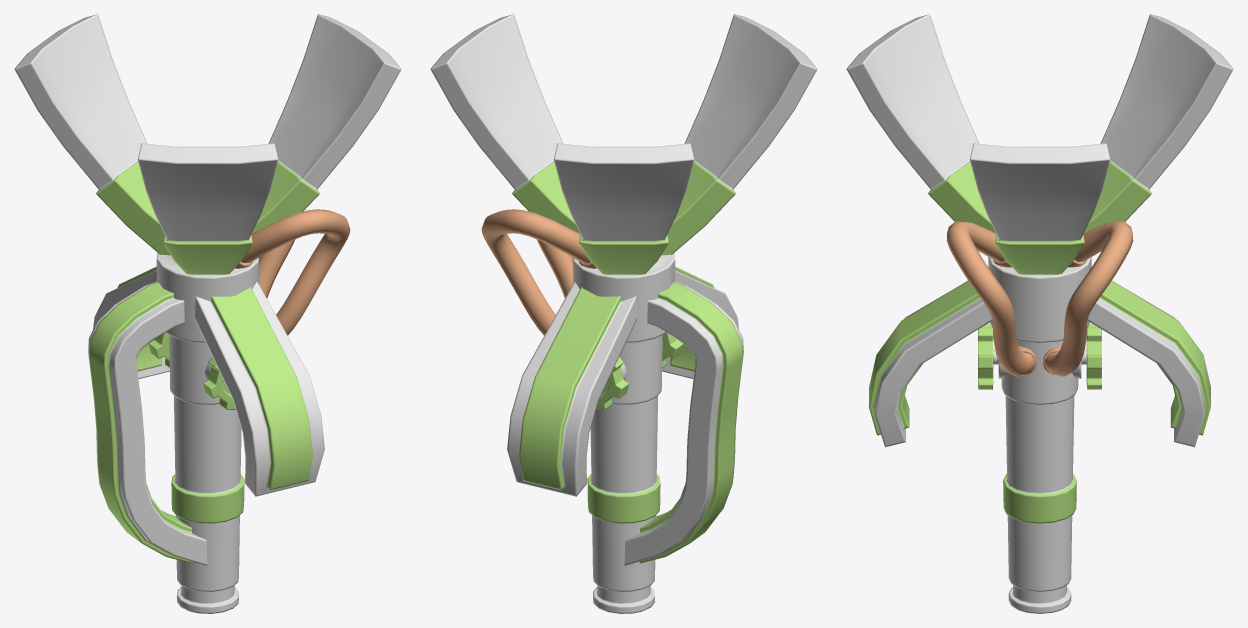
File: lighttool.fbx
3 renders of one model, left to right at view 1: azimuth 30°, elevation 25°; view 2: azimuth 150°, elevation 25°; view 3: azimuth 270°, elevation 25°, orthographic.
Visible parts, largest first — view 1: lighttool, lighttoolcog; view 2: lighttool, lighttoolcog; view 3: lighttool, lighttoolcog.
Part boxes in pixels (x1,y1,x2,y2): lighttool: (14, 14, 401, 613); lighttoolcog: (148, 333, 235, 409); lighttool: (430, 14, 817, 613); lighttoolcog: (596, 333, 683, 409); lighttool: (846, 14, 1233, 613); lighttoolcog: (978, 324, 1101, 389).
Size of the model in its own units: 16.82 by 28.51 by 18.98.
